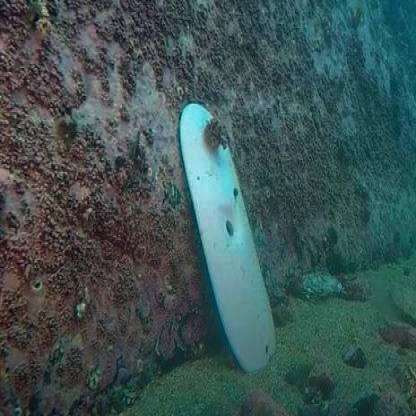electronics: (164, 112, 281, 395)
